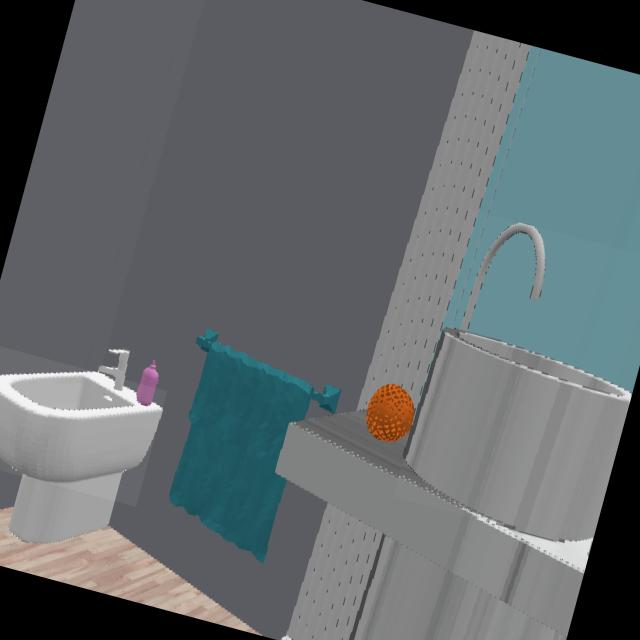washbasin: (406, 225, 631, 541), (0, 371, 162, 483)
